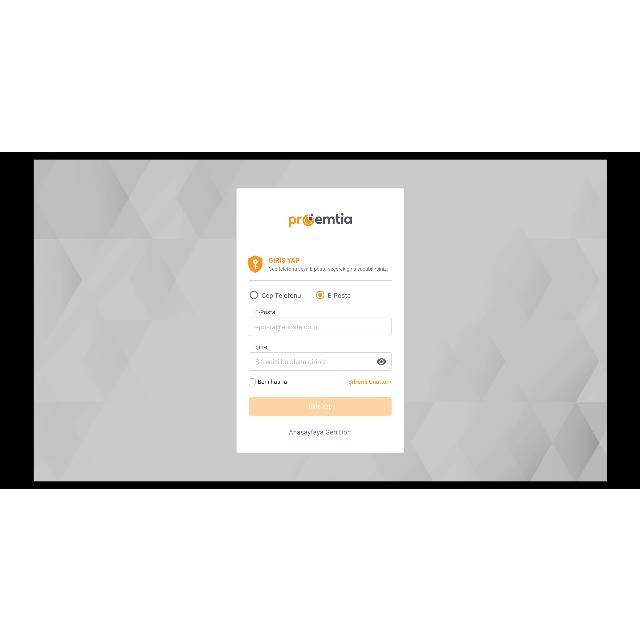QLabel: (266, 264, 389, 272), (286, 428, 352, 437), (346, 377, 392, 385), (262, 292, 300, 298), (268, 255, 300, 262), (257, 378, 287, 384), (307, 403, 333, 409), (327, 292, 351, 298), (254, 308, 276, 314), (255, 344, 268, 350)
VBtn: (248, 396, 392, 416)
VCard: (237, 187, 405, 453)
VCheckbox: (248, 378, 256, 384)
VDivider: (248, 278, 392, 280)
VImg: (283, 208, 355, 228), (246, 255, 264, 273)
VRadio: (250, 290, 258, 298), (316, 290, 324, 298)
VTextField: (248, 316, 392, 336), (248, 352, 392, 370)
